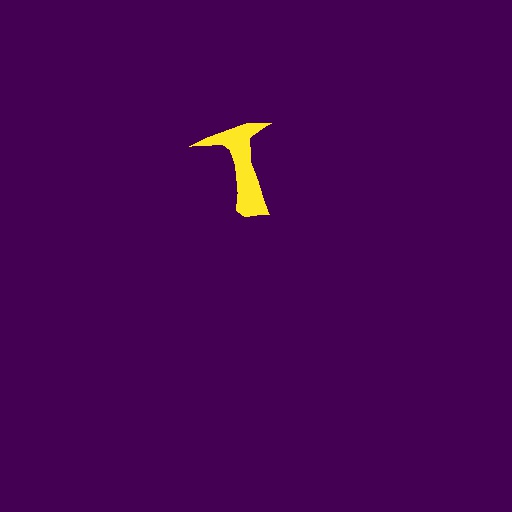Gliomia_tumour: (189, 123, 272, 217)
